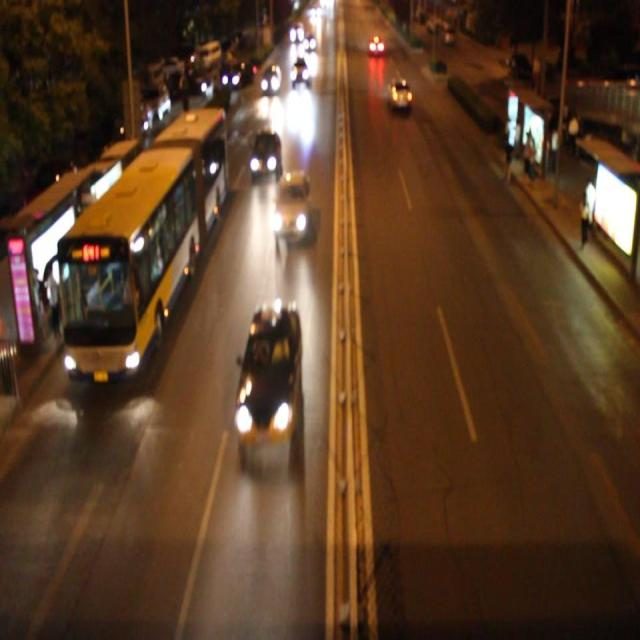car: (234, 301, 303, 442), (275, 169, 312, 243), (249, 128, 281, 181), (386, 74, 412, 112), (260, 64, 282, 98), (290, 57, 310, 85)
van: (54, 102, 219, 376)
